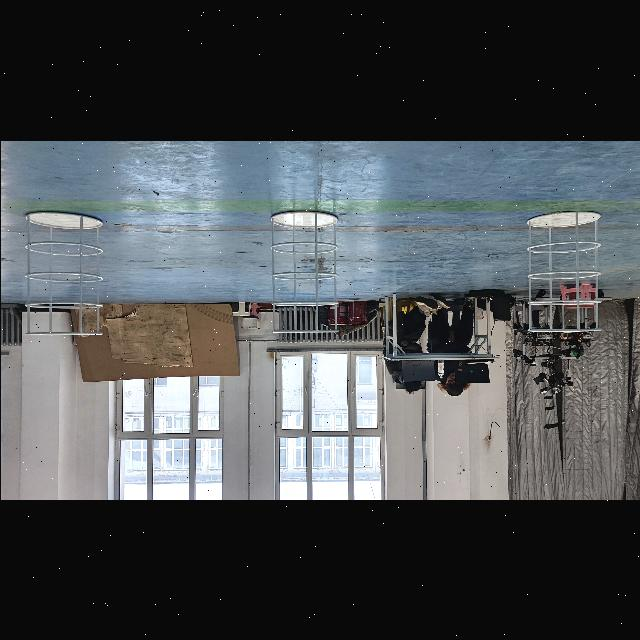S: (18, 207, 108, 343), (523, 207, 607, 337), (262, 205, 342, 337)
